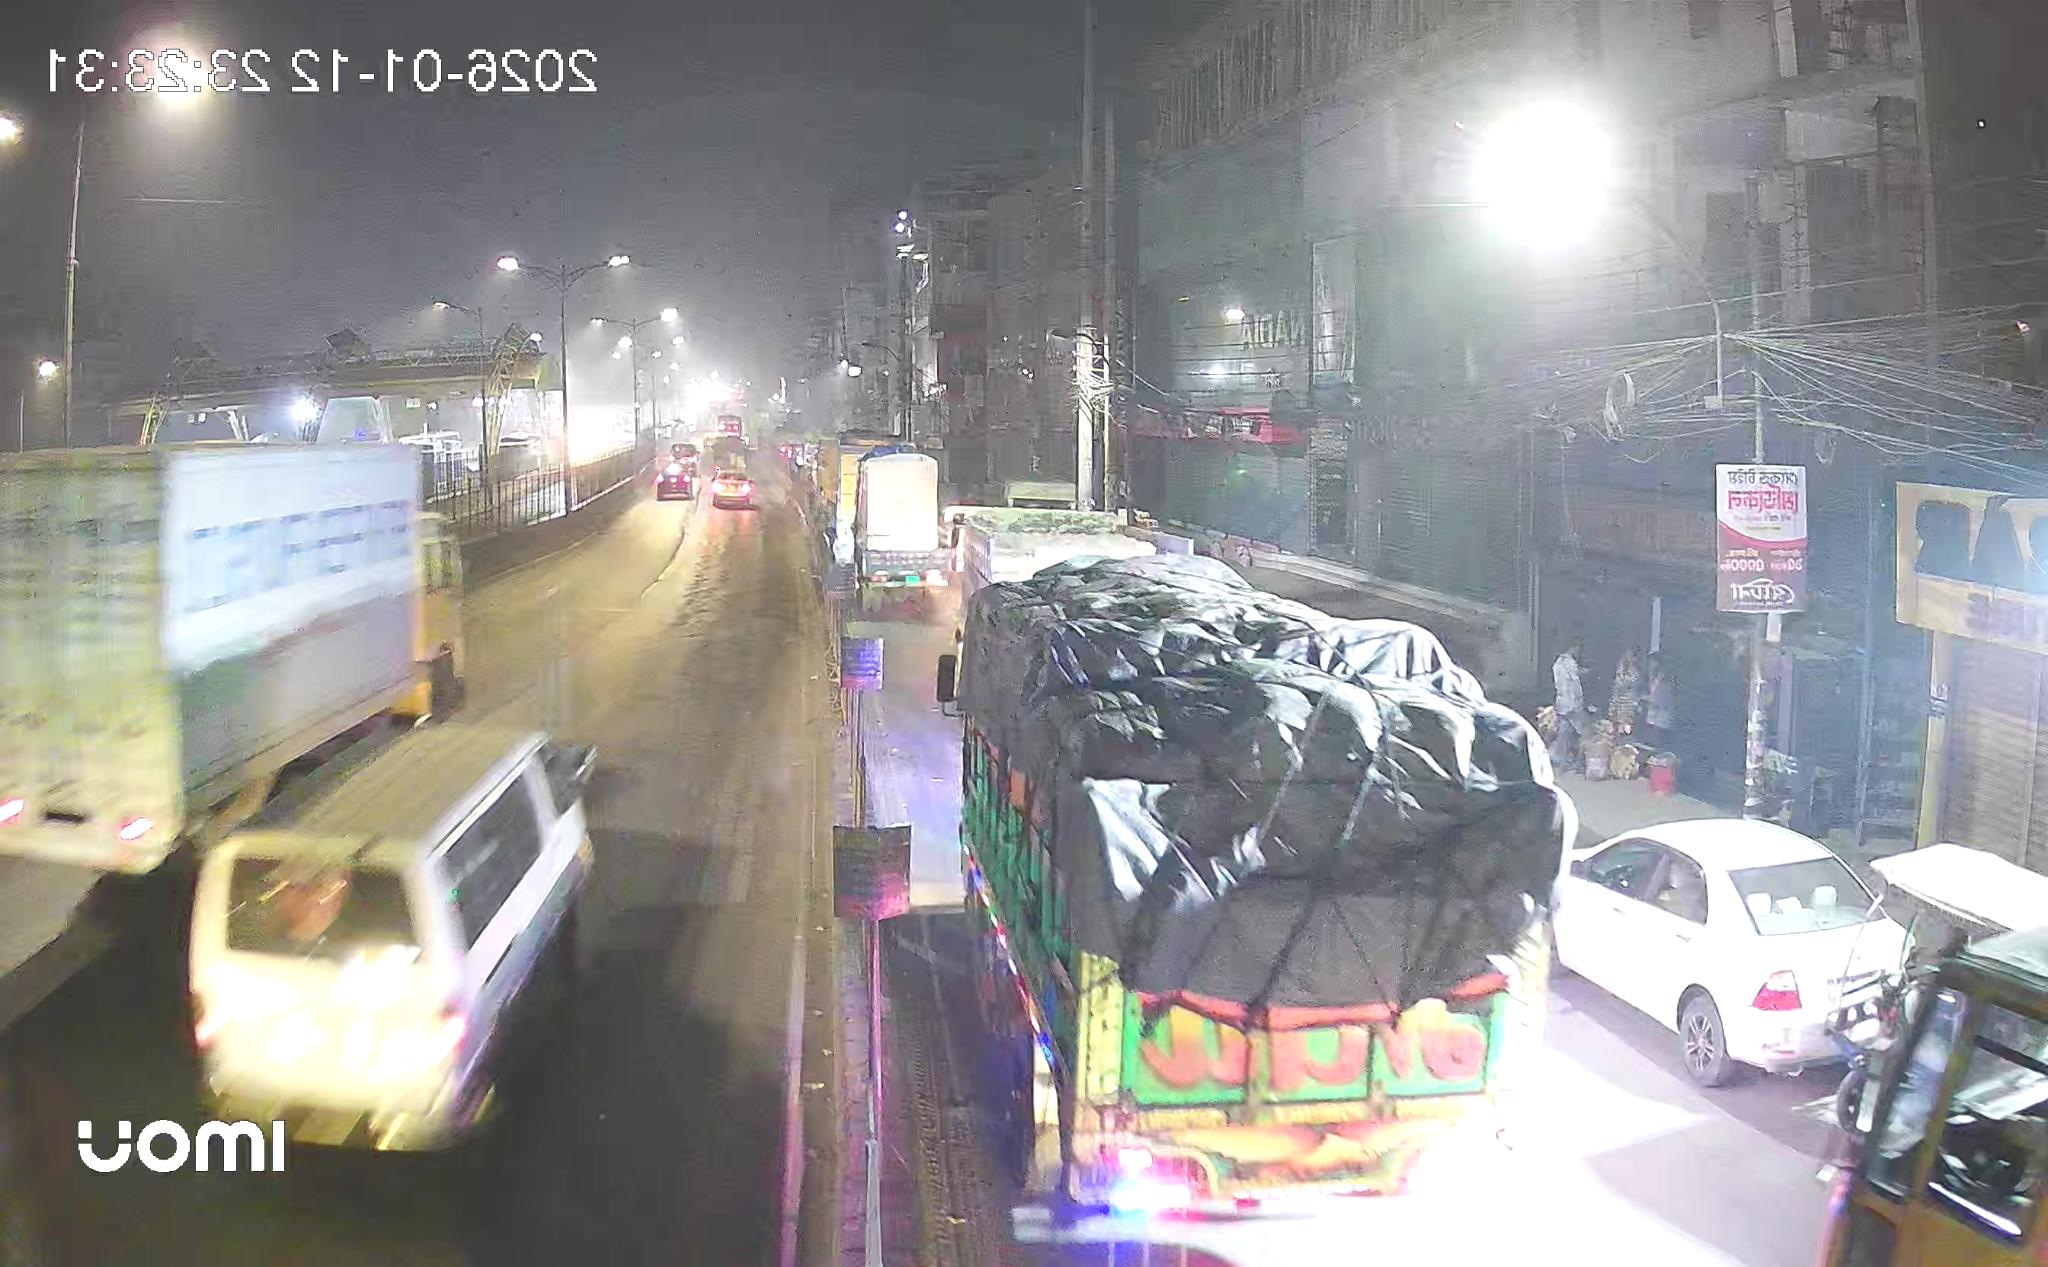Microbus: (189, 723, 594, 1150)
Private-Sedan Car: (1552, 819, 1906, 1087)
Truck: (939, 524, 1577, 1207), (1, 445, 464, 873), (843, 449, 948, 610)
